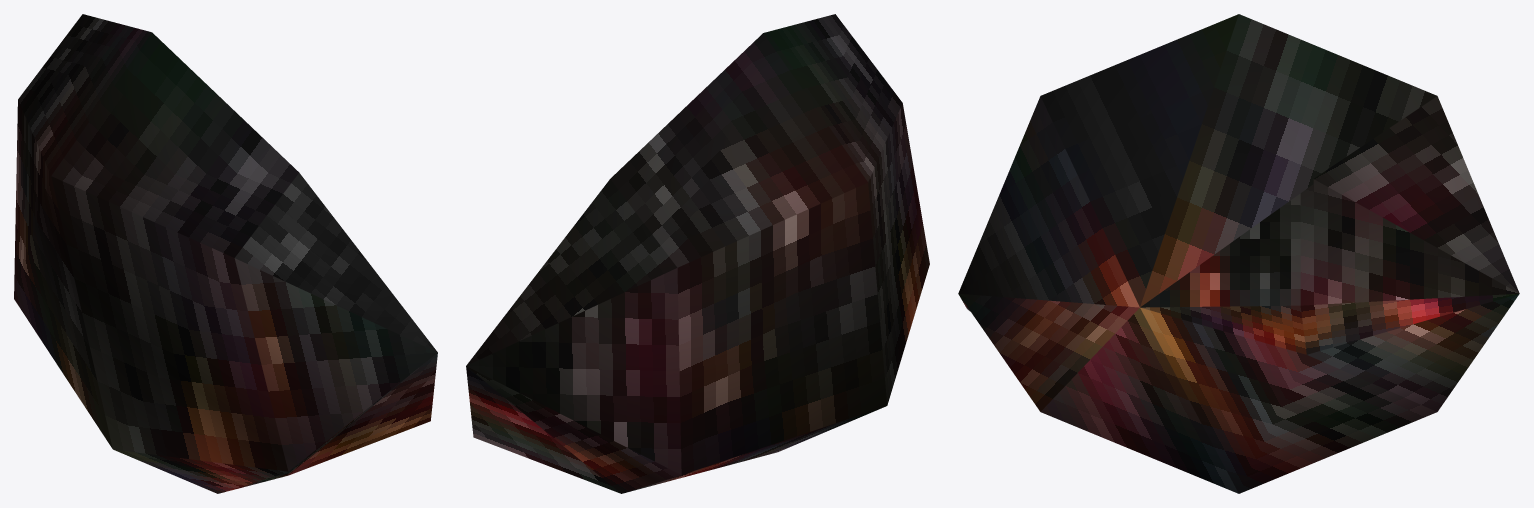
File: Stone02.glb
3 views of the same model, side by side, from view 1: azimuth 30°, elevation 25°; view 2: azimuth 150°, elevation 25°; view 3: azimuth 270°, elevation 25° (orthographic). The views are drawn at different scales.
Parts seen in each view (by area): view 1: model_Stone02; view 2: model_Stone02; view 3: model_Stone02.
Boxes of the visible parts, bbox=[...] form: model_Stone02: bbox=[14, 14, 437, 493]; model_Stone02: bbox=[466, 14, 929, 493]; model_Stone02: bbox=[958, 14, 1519, 493].
Size of the model in its own units: 0.1417 by 0.1915 by 0.2424.
Materials: 1 (1 with a texture image).
